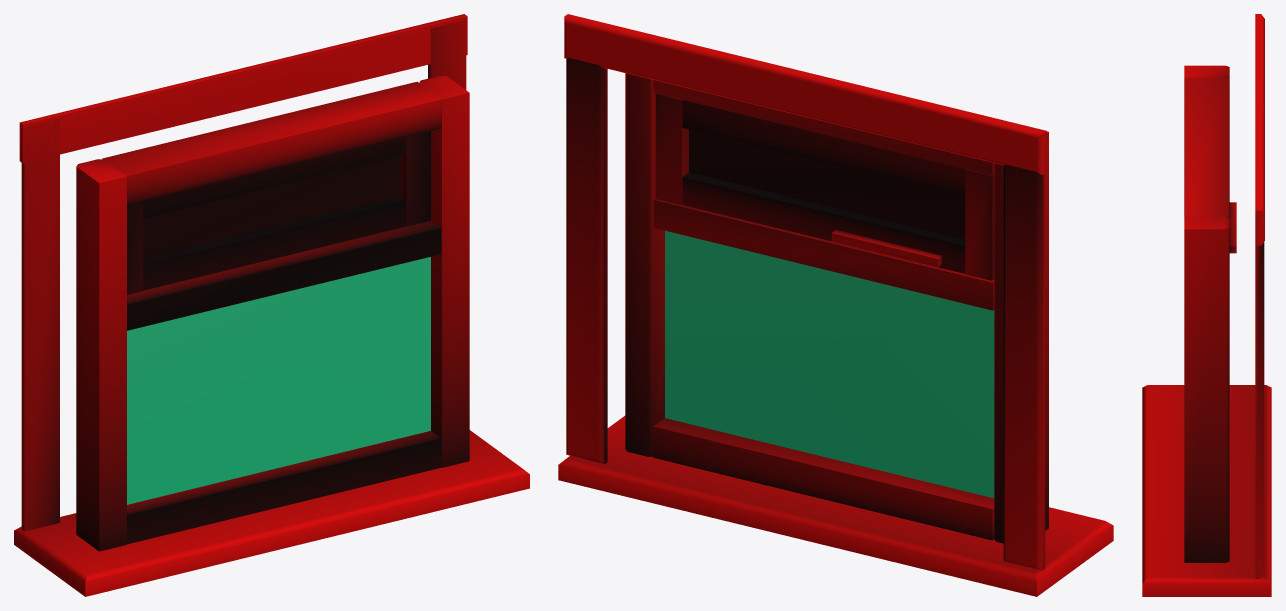
Rendered from CI_Shell_Window_Frosted.fbx.
3 renders of one model, left to right at view 1: azimuth 30°, elevation 25°; view 2: azimuth 150°, elevation 25°; view 3: azimuth 270°, elevation 25°, orthographic. The views are drawn at different scales.
Visible parts, largest first — view 1: CI_Shell_Window_Frosted; view 2: CI_Shell_Window_Frosted; view 3: CI_Shell_Window_Frosted.
Boxes of the visible parts, <box> form: CI_Shell_Window_Frosted: <box>14,14,529,596</box>; CI_Shell_Window_Frosted: <box>558,14,1113,596</box>; CI_Shell_Window_Frosted: <box>1142,14,1271,596</box>.
Bounding box in the file's own units: 0.72 × 0.66 × 0.2.
